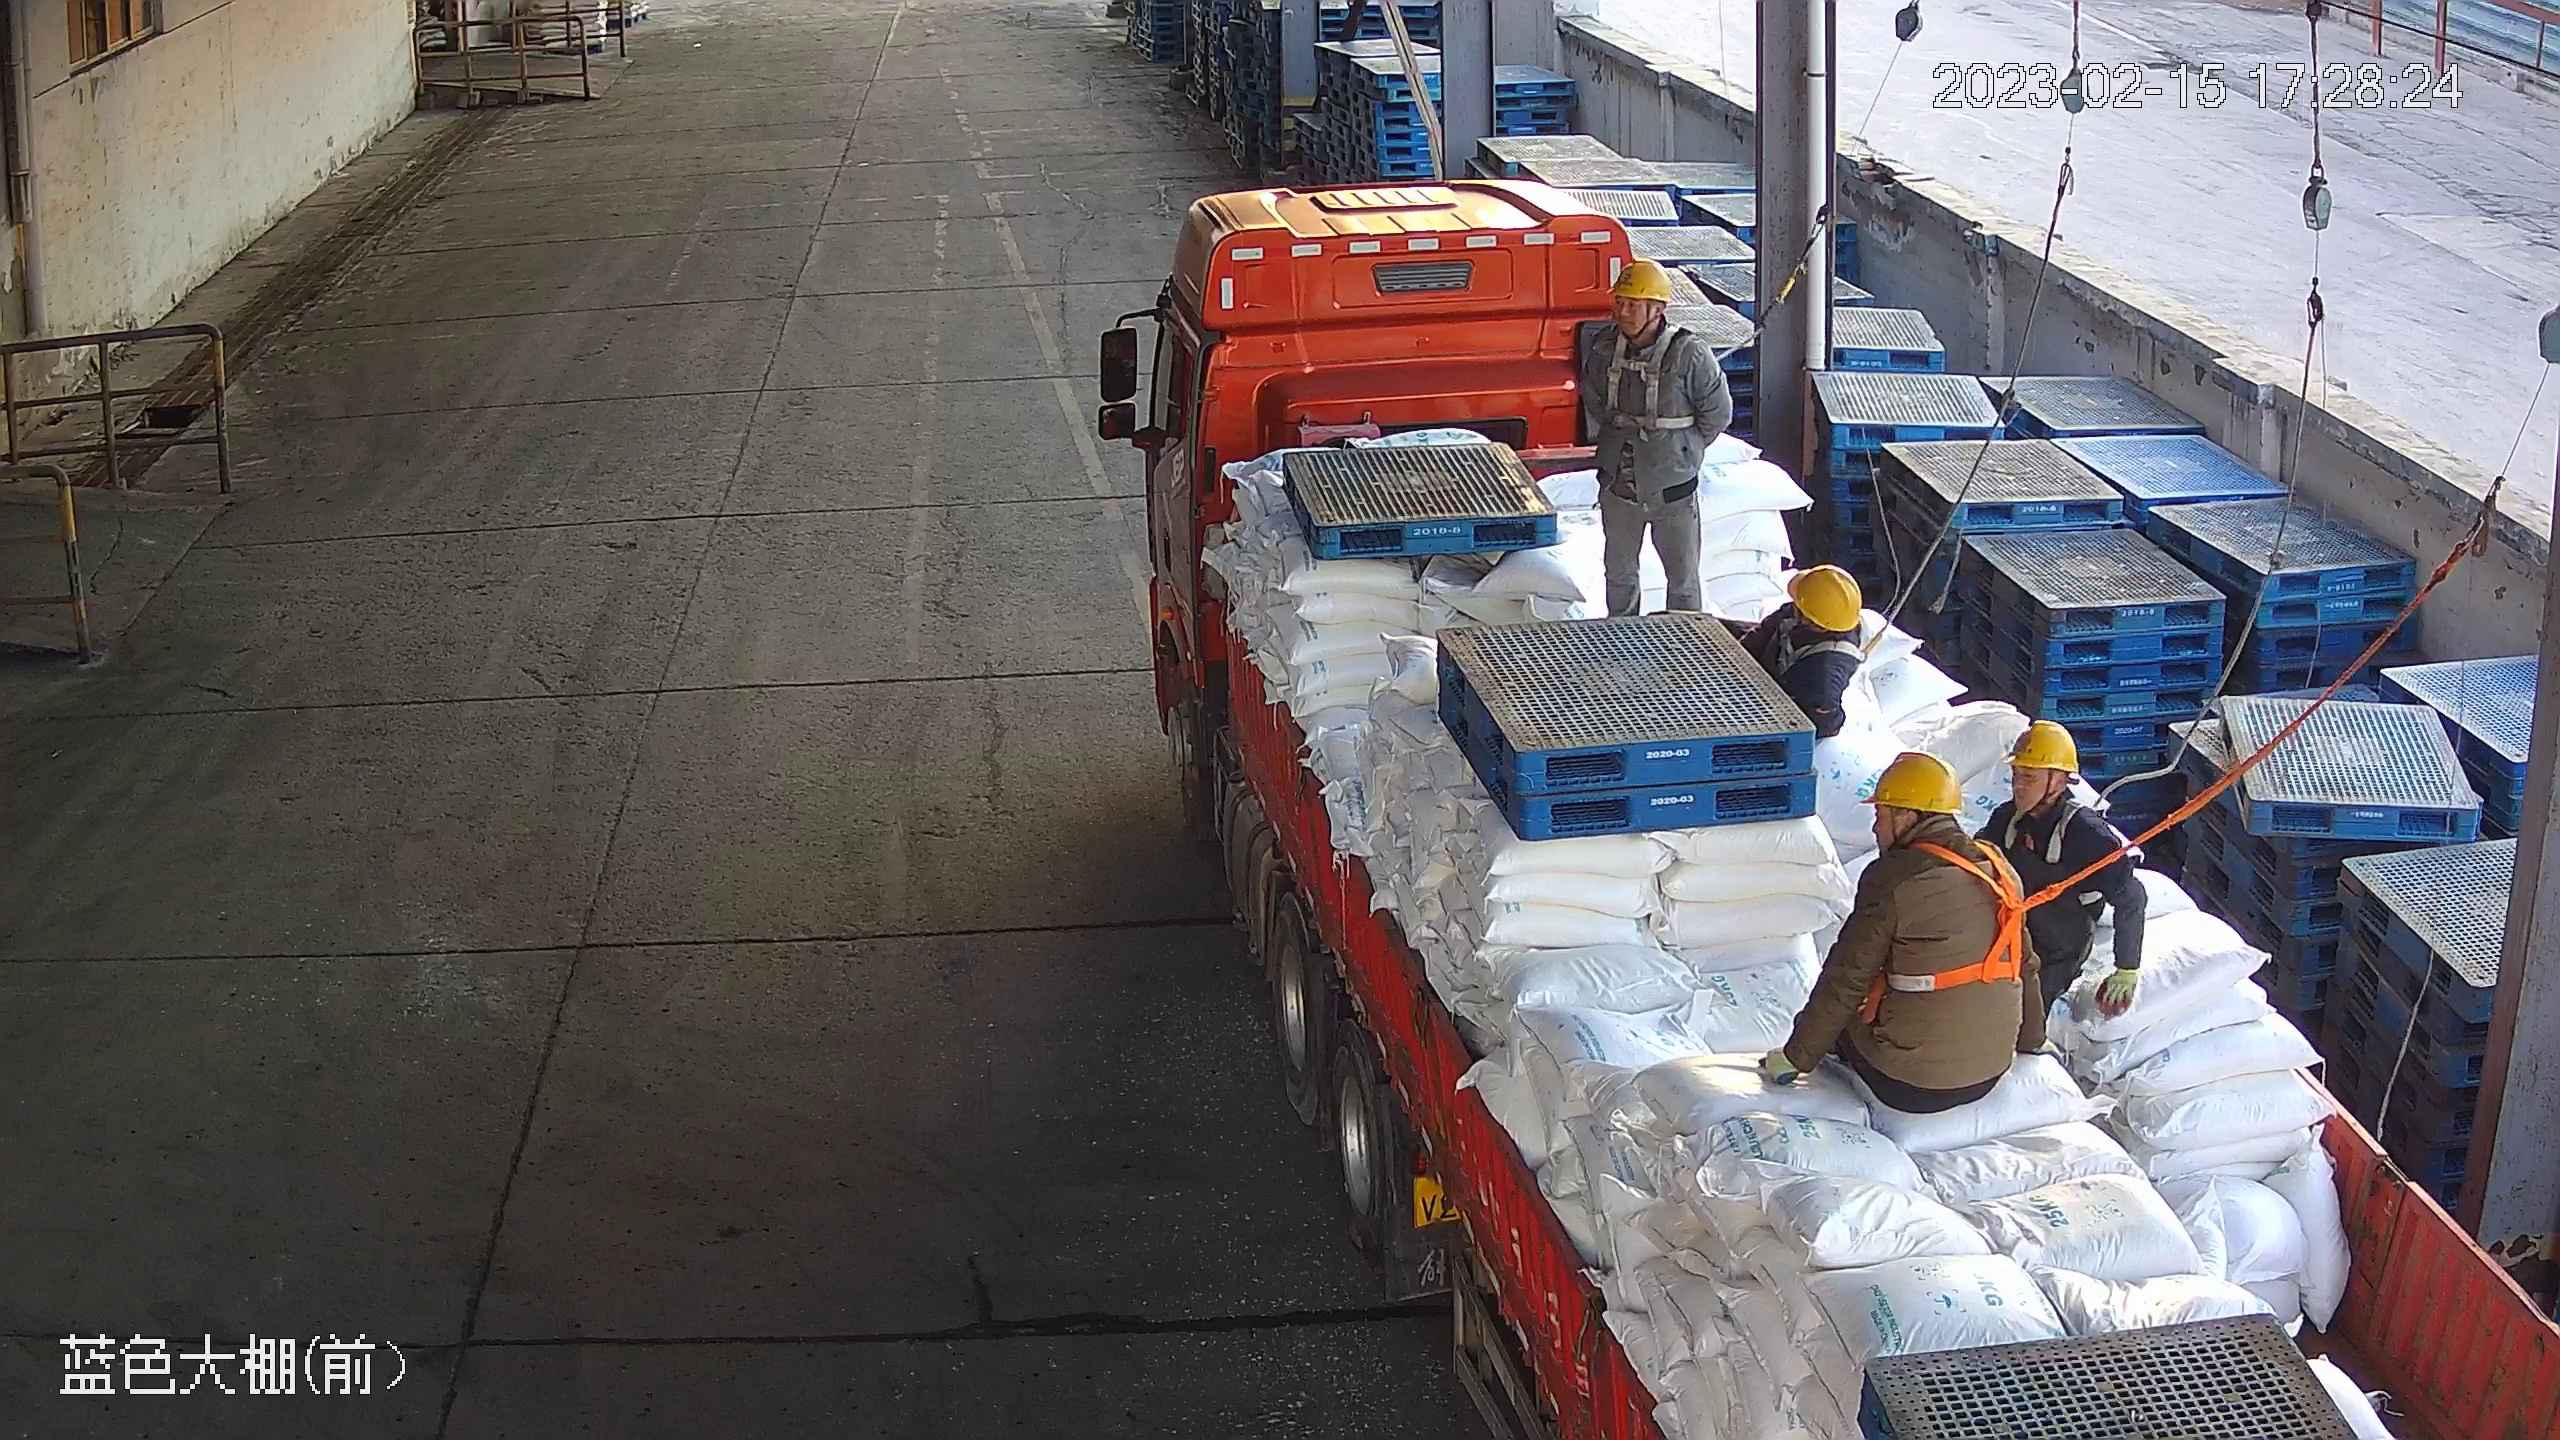belt: (1864, 828, 2053, 1020), (1594, 323, 1706, 442), (1758, 604, 1885, 678), (1997, 793, 2126, 862)
head: (1857, 747, 2027, 926), (2003, 714, 2115, 870), (1589, 253, 1718, 389), (1762, 562, 1869, 701)
helmet: (1858, 747, 1965, 818), (1785, 563, 1865, 633), (2004, 716, 2081, 775), (1606, 258, 1672, 304)
people: (1766, 749, 2059, 1117), (1572, 251, 1735, 610), (1987, 719, 2151, 1025), (1737, 557, 1869, 732)
truck: (1094, 185, 2560, 1440)
